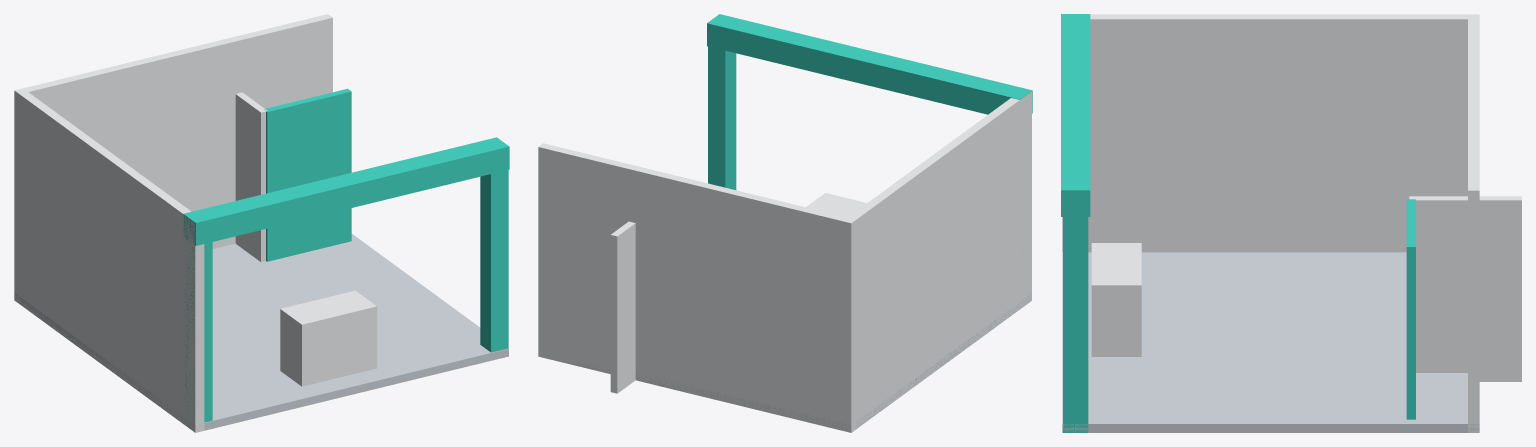
3 renders of one model, left to right at view 1: azimuth 30°, elevation 25°; view 2: azimuth 150°, elevation 25°; view 3: azimuth 270°, elevation 25°, orthographic. The views are drawn at different scales.
Parts seen in each view (by area): view 1: Exhibition Booth Concept; view 2: Exhibition Booth Concept; view 3: Exhibition Booth Concept.
Boxes of the visible parts, x1,y1,x2,y2 form: Exhibition Booth Concept: (14, 14, 509, 432); Exhibition Booth Concept: (538, 14, 1032, 432); Exhibition Booth Concept: (1061, 14, 1521, 432).
Size of the model in its own units: 5 by 3.2 by 5.52.
